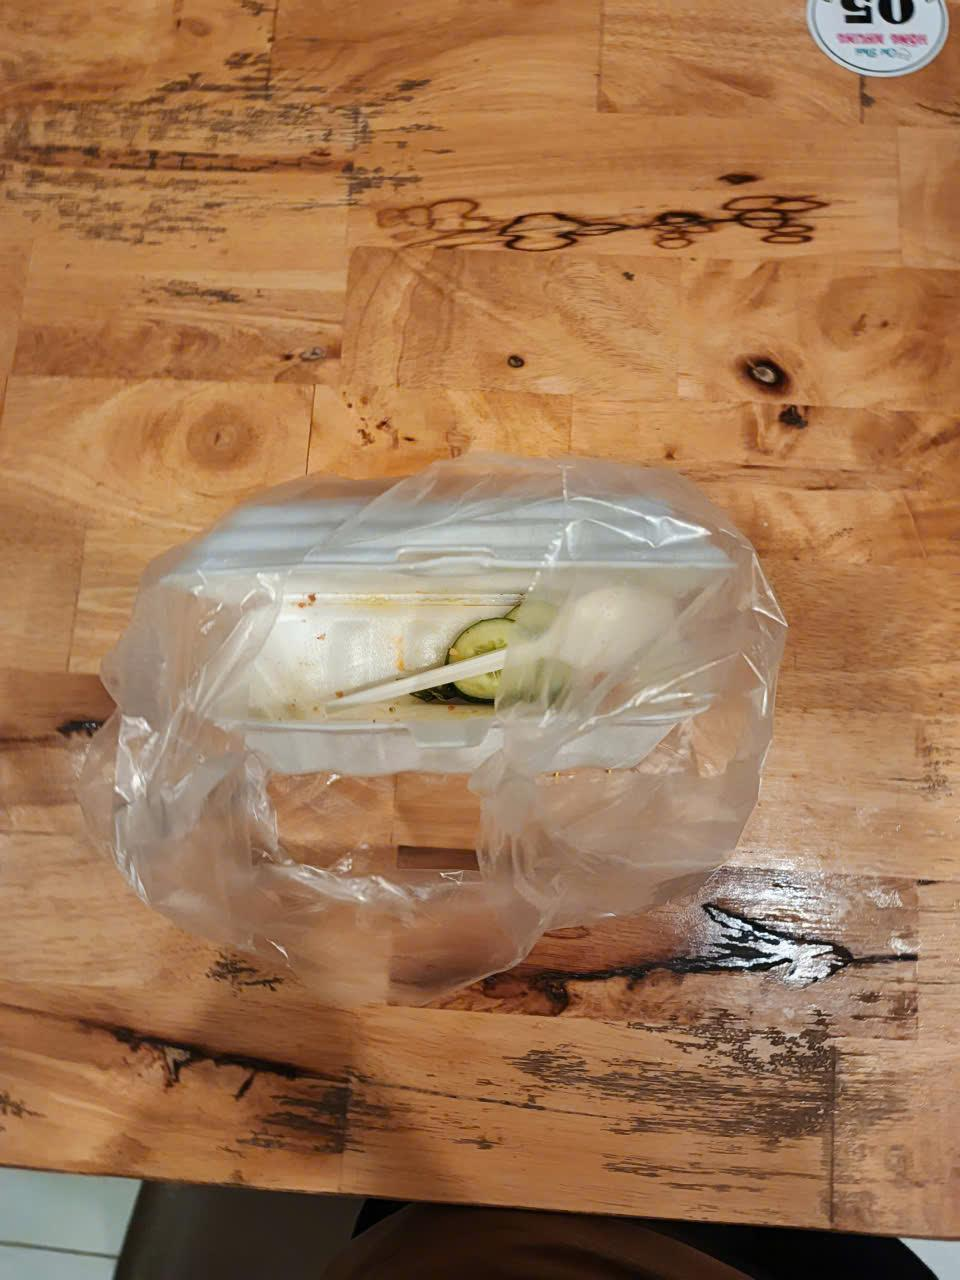Con lai: (110, 488, 786, 944)
